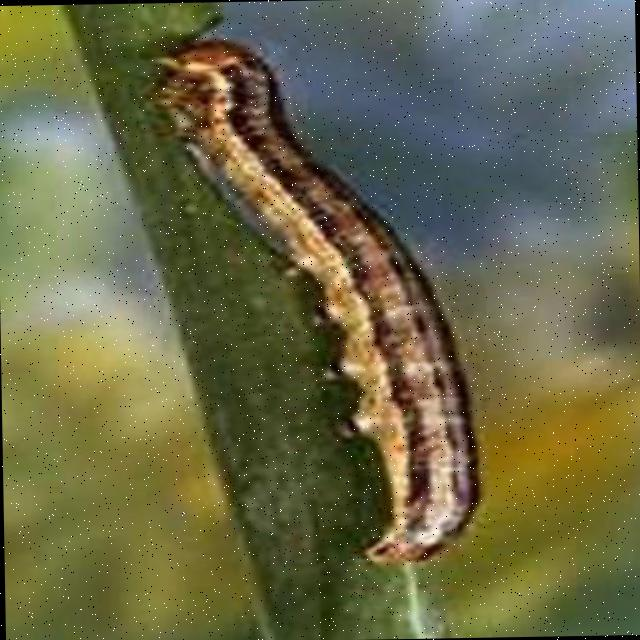worm: (140, 33, 484, 575)
